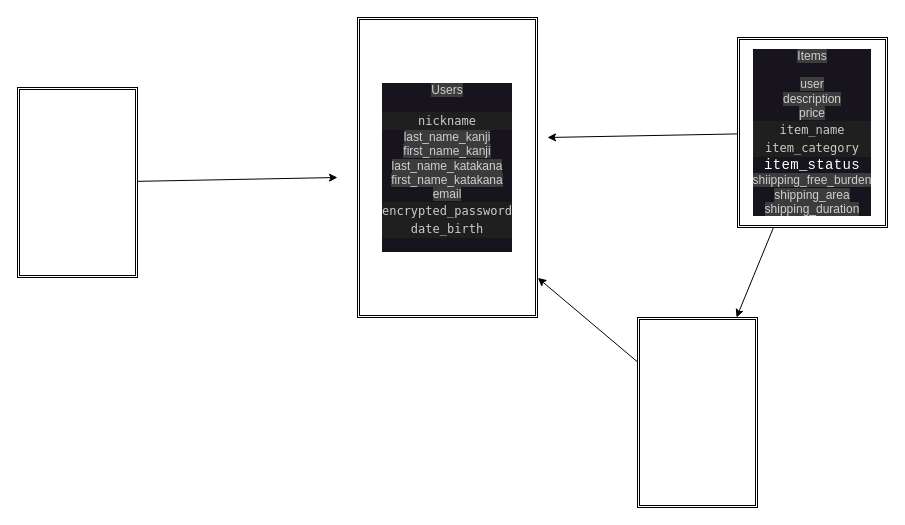
Image size: 905x525. Some labels were removed from this diagram. The shapes that lost their labels are listed below. From the top down, each one's centre as x and y in pixels, then its label:
At (77,182): "address postal_code prefecture city street_address building_name phone_number".
At (697,412): "purchases item user".
